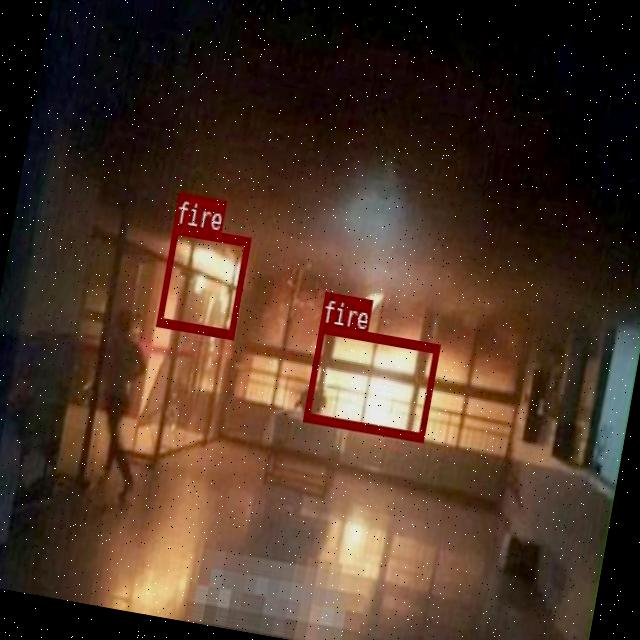fire: (302, 322, 438, 439), (154, 224, 250, 338)
